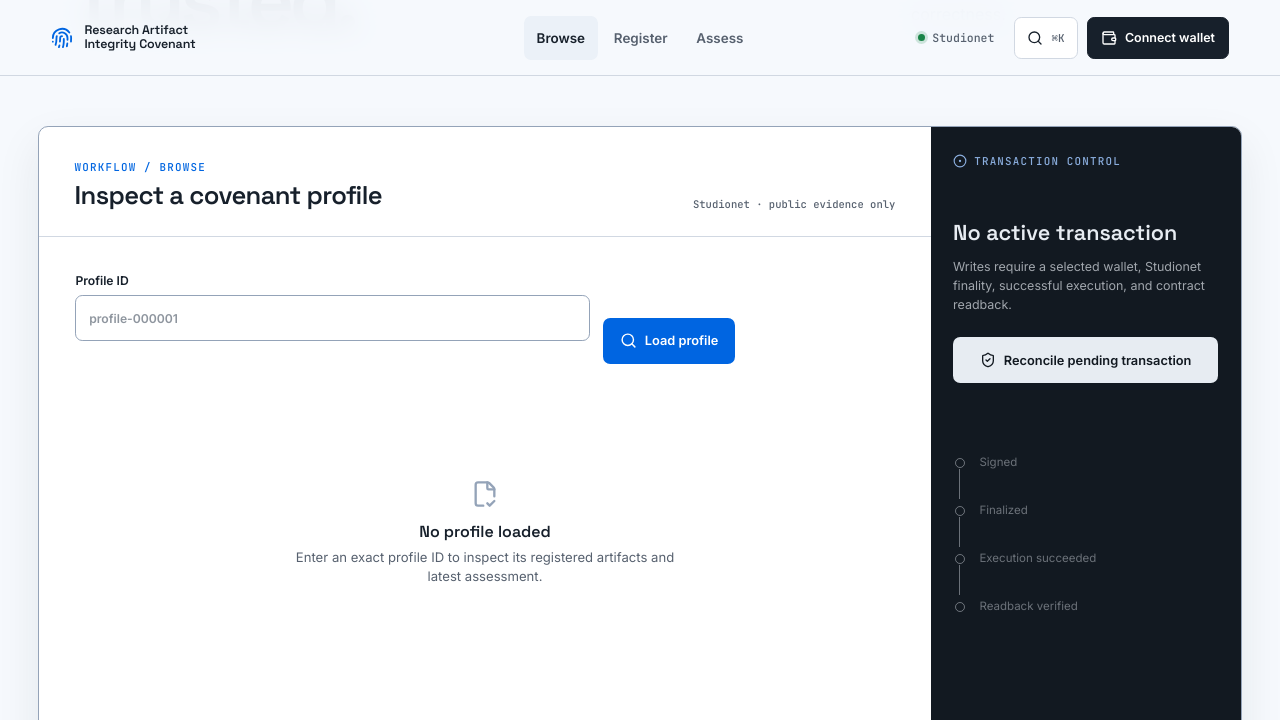
Scenario: restart-safe draft workflow › restores artifact recovery to the original successor and registered count
This screenshot has width=1280, height=720.
(page scrolled)
Step 1. Click the button "Reconcile pending transaction" → (1086, 360), box left=953, top=337, right=1218, bottom=383
(page scrolled)
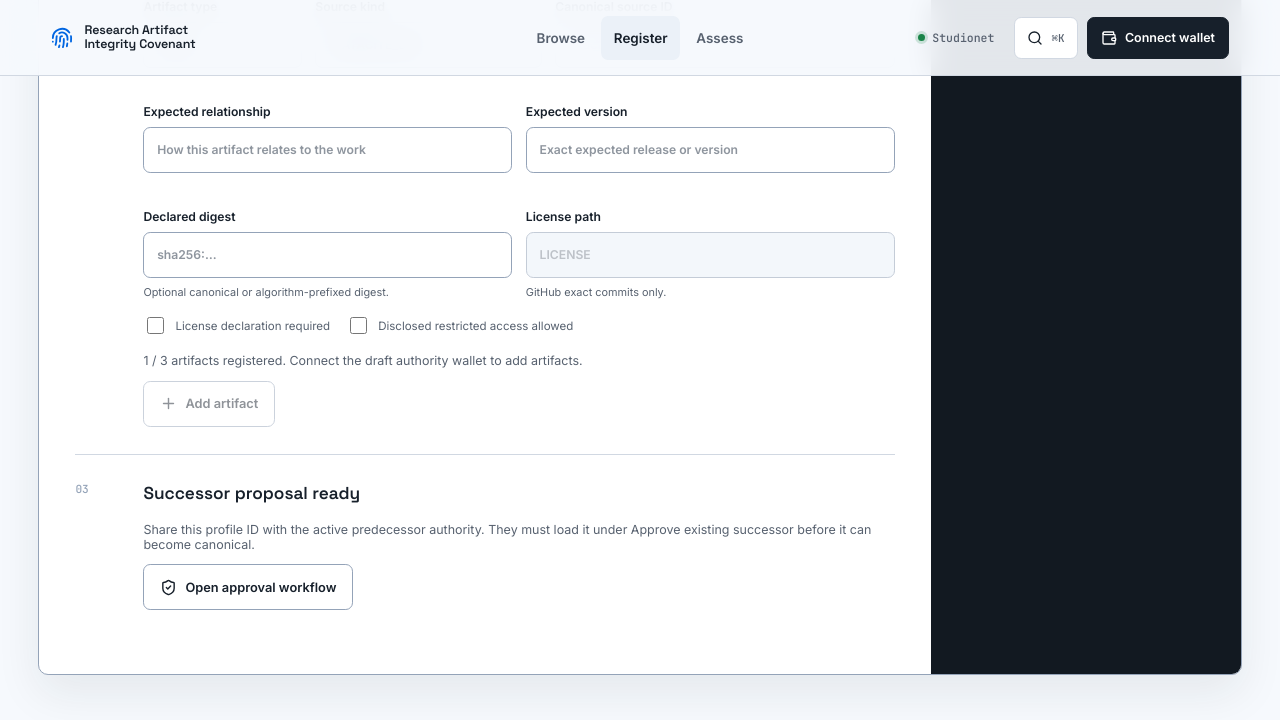
Now the button "Open approval workflow" is enabled, box left=143, top=564, right=353, bottom=610
Now the text "1 / 3 artifacts registered" is shown, box left=143, top=353, right=583, bottom=368
